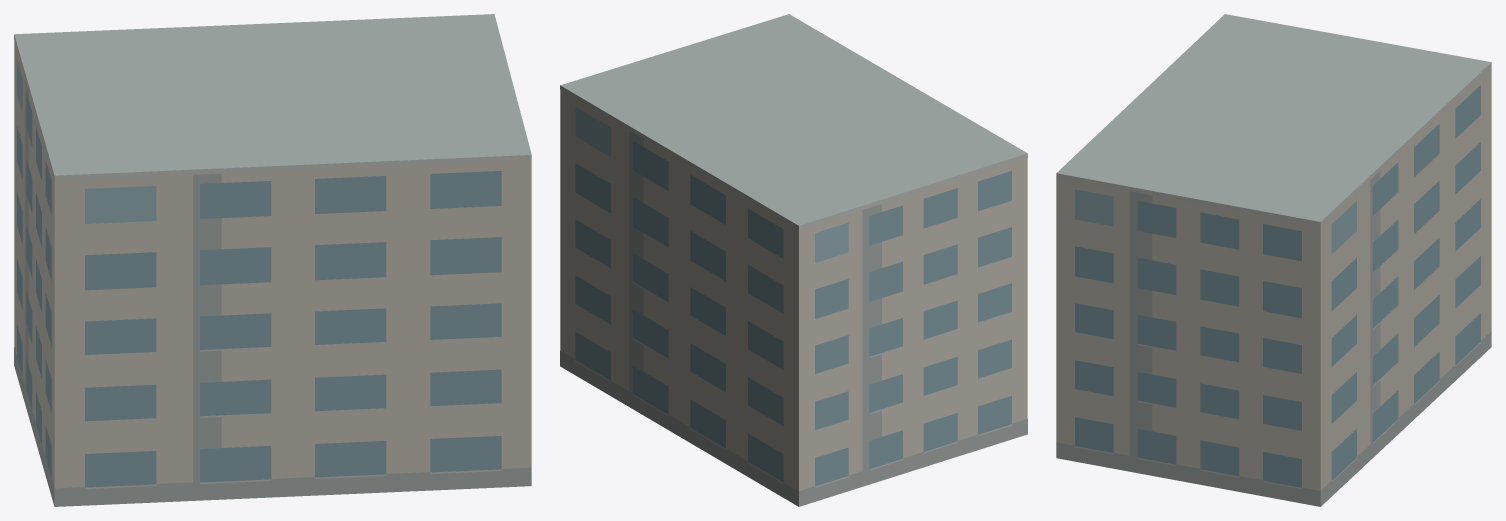
The model's file is survey-upis-32739679.glb.
3 renders of one model, left to right at view 1: azimuth 30°, elevation 25°; view 2: azimuth 150°, elevation 25°; view 3: azimuth 270°, elevation 25°, orthographic. The views are drawn at different scales.
Parts seen in each view (by area): view 1: survey-upis-32739679.tmp; view 2: survey-upis-32739679.tmp; view 3: survey-upis-32739679.tmp.
Part boxes in pixels (box(x1,y1,x2,y2)): survey-upis-32739679.tmp: box(14, 14, 531, 506); survey-upis-32739679.tmp: box(560, 14, 1027, 506); survey-upis-32739679.tmp: box(1056, 14, 1491, 506).
Bounding box in the file's own units: 23.88 × 15.25 × 21.12.
